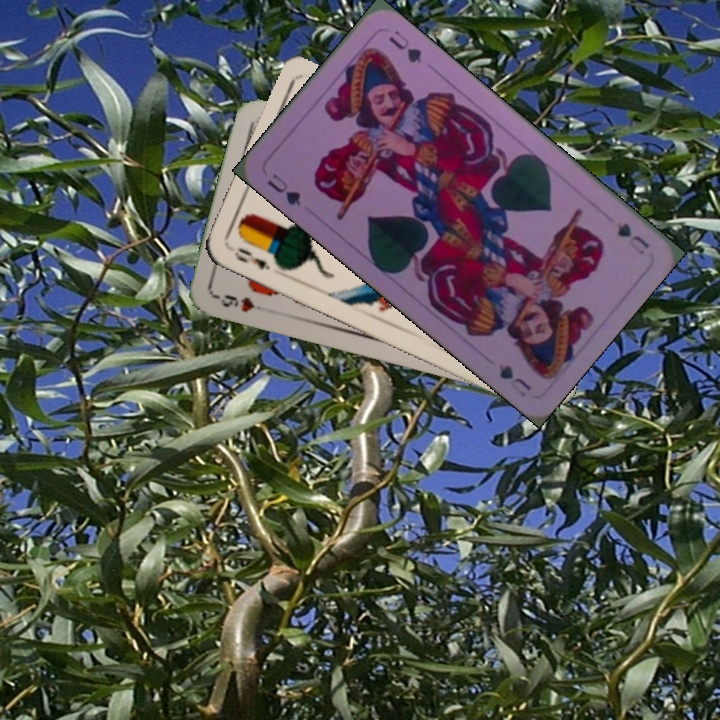EO: (229, 243, 273, 273)
GU: (612, 218, 652, 258), (263, 169, 304, 208)
H9: (212, 290, 270, 315)
